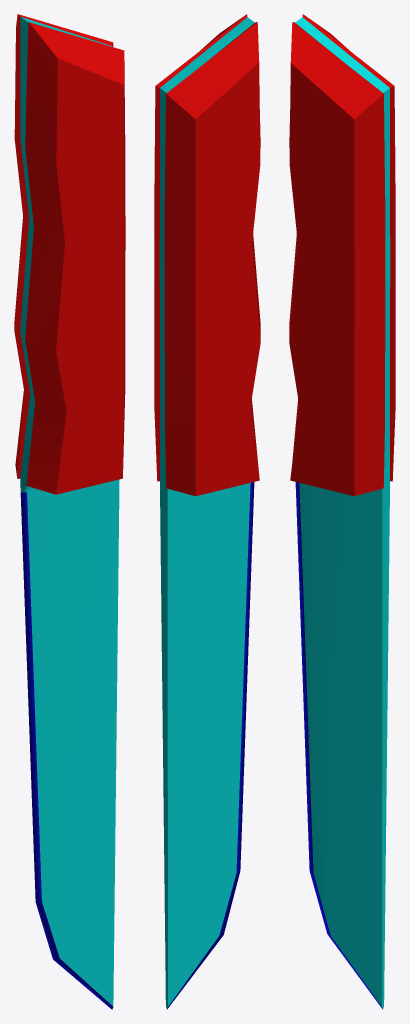
File: Normal_Knife.fbx
The picture shows the model from 3 angles, left to right: view 1: azimuth 30°, elevation 25°; view 2: azimuth 210°, elevation 25°; view 3: azimuth 330°, elevation 25°; orthographic projection. The views are drawn at different scales.
Parts seen in each view (by area): view 1: Normal_Knife; view 2: Normal_Knife; view 3: Normal_Knife.
Boxes of the visible parts, x1,y1,x2,y2 form: Normal_Knife: (14, 14, 125, 1009); Normal_Knife: (154, 14, 260, 1009); Normal_Knife: (289, 14, 395, 1009).
Bounding box in the file's own units: 0.1805 × 1.74 × 0.1301.
